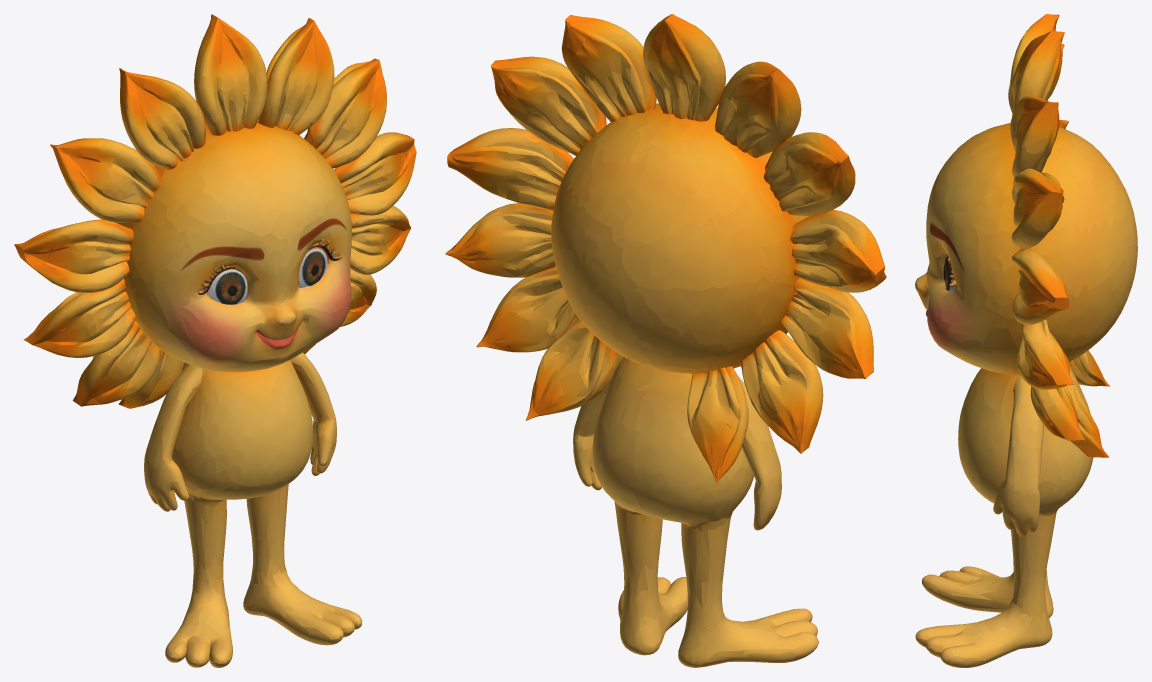
The model's file is sunny-v1.glb.
3 views of the same model, side by side, from view 1: azimuth 30°, elevation 25°; view 2: azimuth 150°, elevation 25°; view 3: azimuth 270°, elevation 25° (orthographic). The views are drawn at different scales.
Size of the model in its own units: 1.3 by 1.9 by 0.6432.
1 material, 1 textured.
